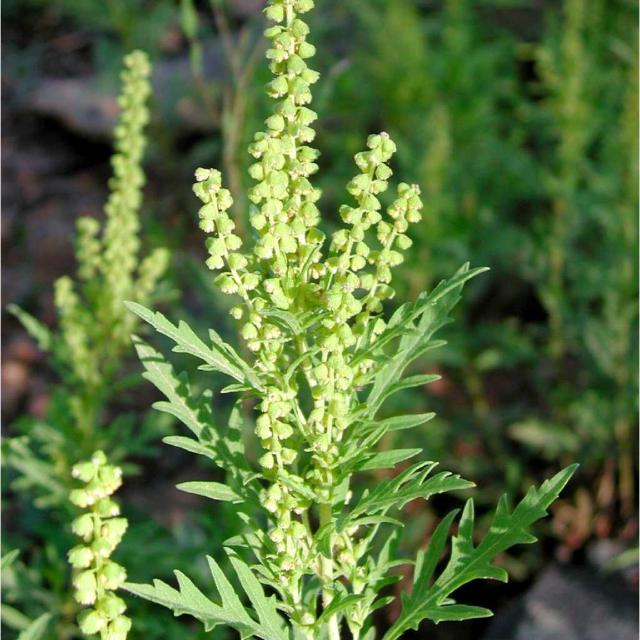ambrosia: (192, 0, 420, 634), (85, 34, 168, 366), (57, 434, 137, 640)
